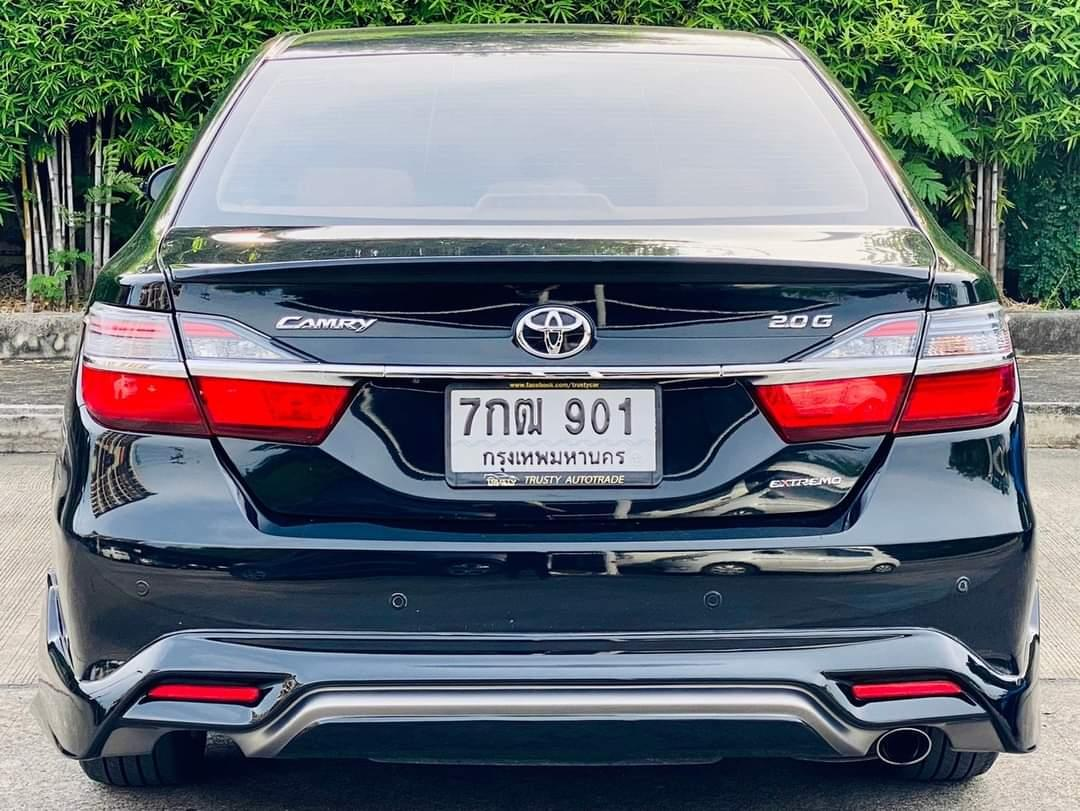license-plate: (445, 378, 666, 491)
